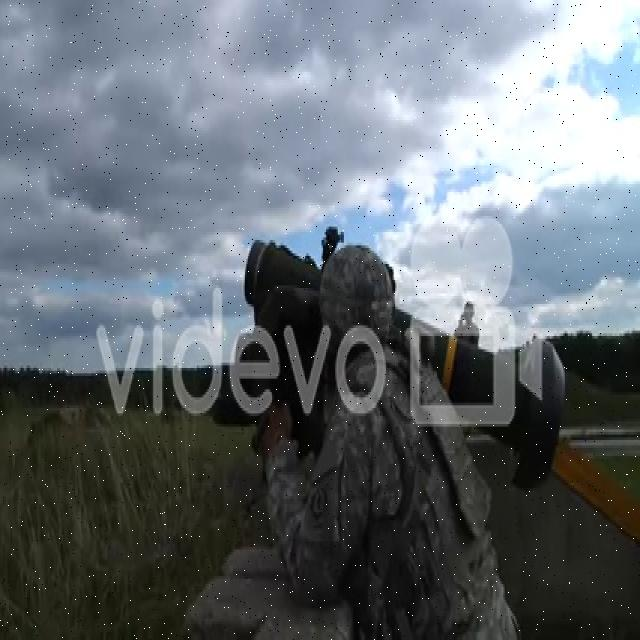bazooka: (239, 226, 578, 502)
